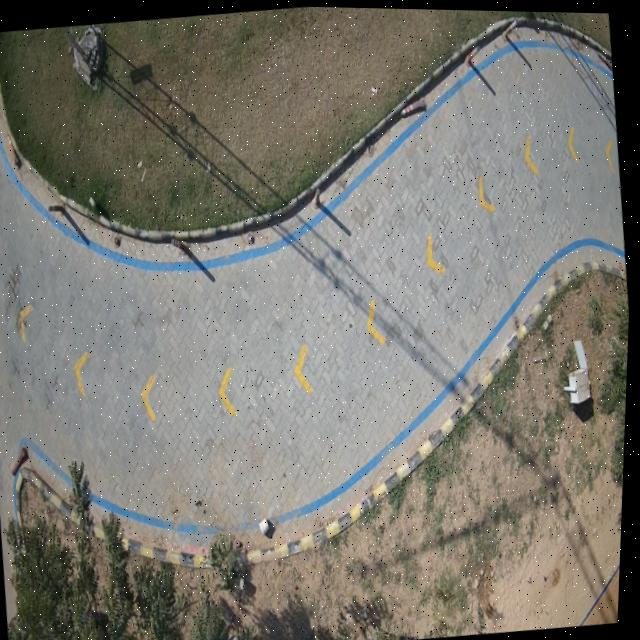No Car: (0, 5, 631, 640)
